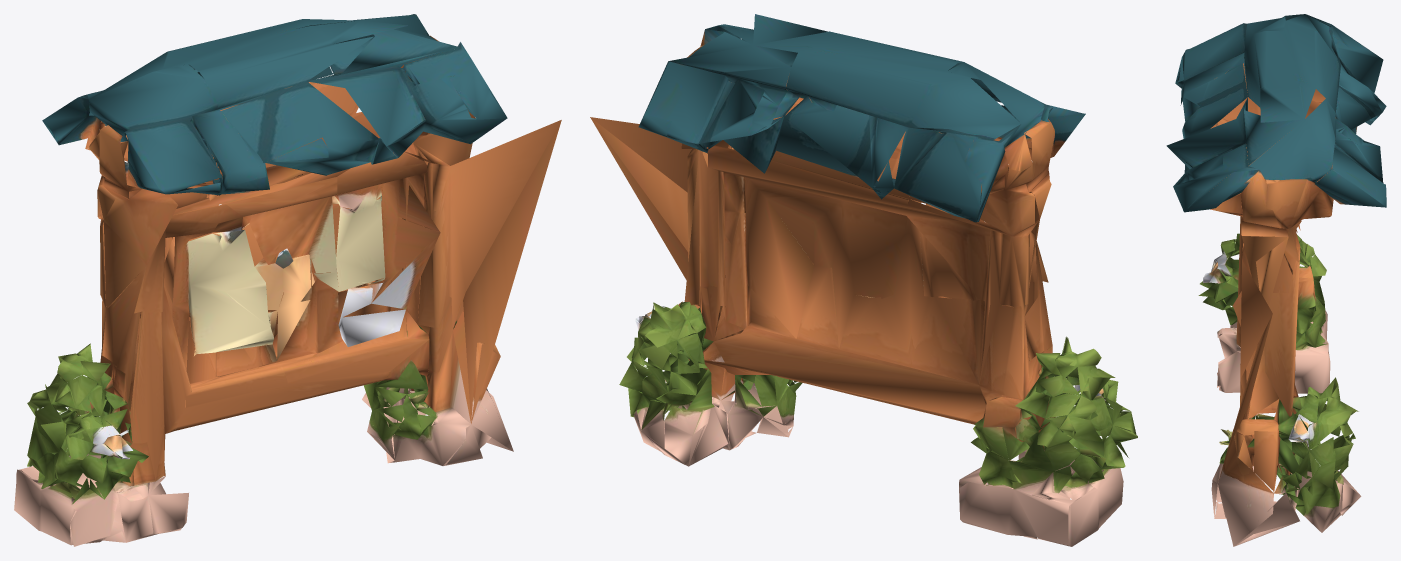
The model's file is M-5_04_noticeboard.glb.
3 views of the same model, side by side, from view 1: azimuth 30°, elevation 25°; view 2: azimuth 150°, elevation 25°; view 3: azimuth 270°, elevation 25° (orthographic). The views are drawn at different scales.
Parts seen in each view (by area): view 1: noticeboard; view 2: noticeboard; view 3: noticeboard.
Part boxes in pixels (x1,y1,x2,y2): noticeboard: (14,14,561,546); noticeboard: (590,14,1137,546); noticeboard: (1166,14,1386,546).
Bounding box in the file's own units: 3.88 × 3.07 × 1.58.
1 material, 1 textured.
